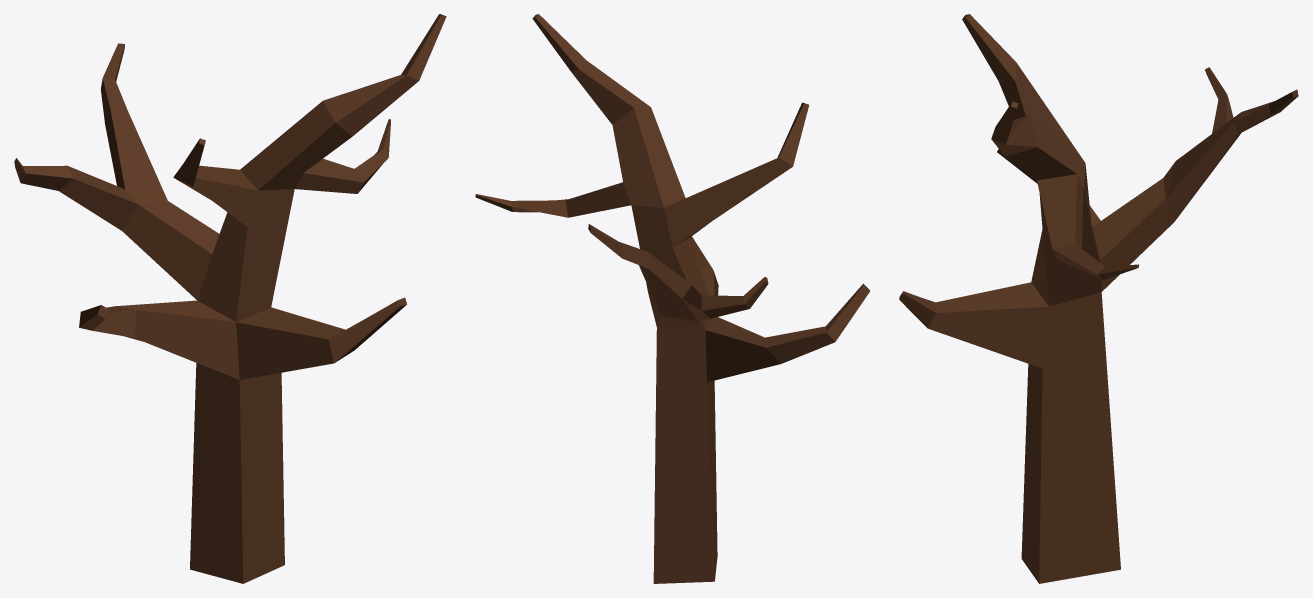
File: TreeAutumn2_Alt1.fbx
3 renders of one model, left to right at view 1: azimuth 30°, elevation 25°; view 2: azimuth 150°, elevation 25°; view 3: azimuth 270°, elevation 25°, orthographic. The views are drawn at different scales.
Visible parts, largest first — view 1: TreeAutumn2_Alt1; view 2: TreeAutumn2_Alt1; view 3: TreeAutumn2_Alt1.
Boxes of the visible parts, x1,y1,x2,y2 form: TreeAutumn2_Alt1: (14, 14, 446, 583); TreeAutumn2_Alt1: (475, 14, 869, 583); TreeAutumn2_Alt1: (899, 14, 1298, 583).
Size of the model in its own units: 1.31 by 1.84 by 1.19.
